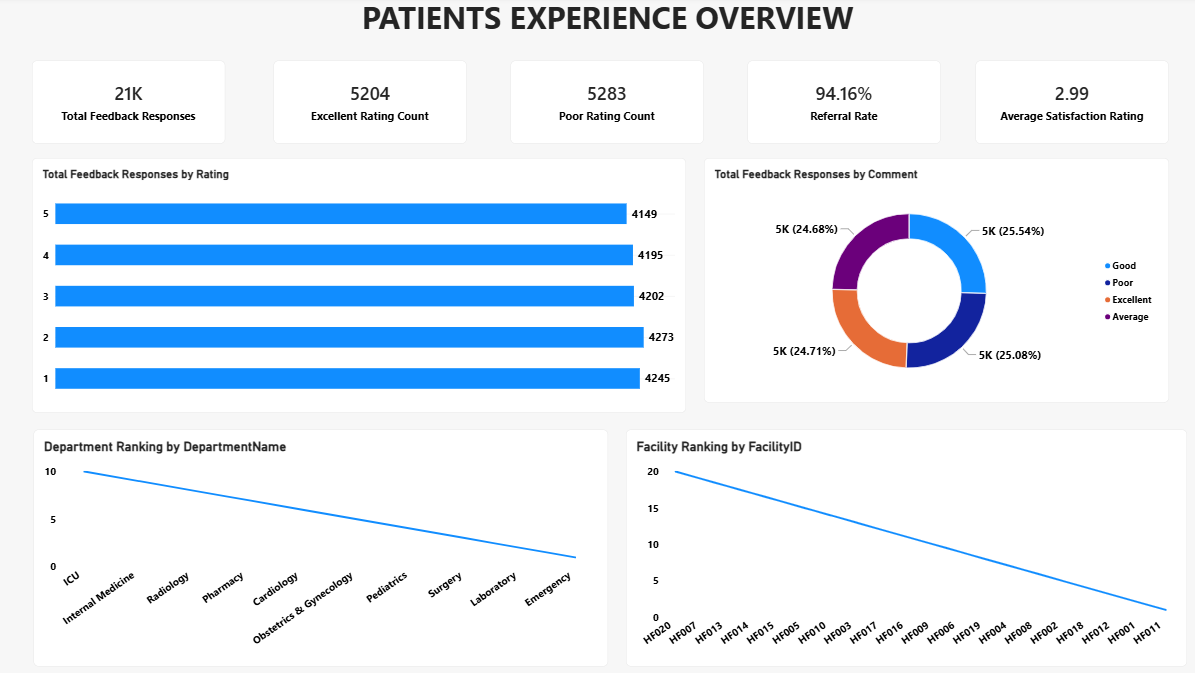

What the dashboard file says about the page in this screenshot:
{"tool":"powerbi","page":{"name":"Patients Experience Dashboard","canvas":[1920,1080],"ordinal":5},"visuals":[{"type":"textbox","box":[280.2,0,1396.3,75.4],"z":0},{"type":"card","fields":{"Values":["Patient_Experience_KPIs.Total Feedback Responses"]},"box":[75.4,101.3,303.3,130.4],"z":1000},{"type":"card","fields":{"Values":["Appointments_KPIs.Referral Rate"]},"box":[1198.5,101.3,303.3,130.4],"z":2000},{"type":"card","fields":{"Values":["Patient_Experience_KPIs.Average Satisfaction Rating"]},"box":[1556.5,101.3,303.3,130.4],"z":3000},{"type":"card","fields":{"Values":["Patient_Experience_KPIs.Excellent Rating Count"]},"box":[454.5,101.3,303.3,130.4],"z":4000},{"type":"card","fields":{"Values":["Patient_Experience_KPIs.Poor Rating Count"]},"box":[826.5,101.3,303.3,130.4],"z":5000},{"type":"clusteredBarChart","fields":{"Category":["HC_Patient_Feedback.Rating"],"Y":["Patient_Experience_KPIs.Total Feedback Responses"]},"box":[75.4,254.3,1026.7,400.3],"z":6000},{"type":"donutChart","fields":{"Category":["HC_Patient_Feedback.Comment"],"Y":["Patient_Experience_KPIs.Total Feedback Responses"]},"box":[1130.3,254.3,730,383.8],"z":7000},{"type":"lineChart","fields":{"Category":["HC_Departments.DepartmentName"],"Y":["Patient_Experience_KPIs.Department Ranking"]},"box":[77.7,680.5,901.9,372],"z":8000},{"type":"lineChart","fields":{"Category":["Fact_Appointments.FacilityID"],"Y":["Patient_Experience_KPIs.Facility Ranking"]},"box":[1007.8,680.5,880.7,372],"z":9000}]}

Visuals, with their boxes in screenshot pixels (x1, y1, x2, y2), scaled from the page's 1920x1080 canvas onto the 1195x673 screenshot:
textbox: bbox=[174, 0, 1043, 47]
card - Patient_Experience_KPIs.Total Feedback Responses: bbox=[47, 63, 236, 144]
card - Appointments_KPIs.Referral Rate: bbox=[746, 63, 935, 144]
card - Patient_Experience_KPIs.Average Satisfaction Rating: bbox=[969, 63, 1158, 144]
card - Patient_Experience_KPIs.Excellent Rating Count: bbox=[283, 63, 472, 144]
card - Patient_Experience_KPIs.Poor Rating Count: bbox=[514, 63, 703, 144]
clusteredBarChart - HC_Patient_Feedback.Rating x Patient_Experience_KPIs.Total Feedback Responses: bbox=[47, 158, 686, 408]
donutChart - HC_Patient_Feedback.Comment x Patient_Experience_KPIs.Total Feedback Responses: bbox=[703, 158, 1158, 398]
lineChart - HC_Departments.DepartmentName x Patient_Experience_KPIs.Department Ranking: bbox=[48, 424, 610, 656]
lineChart - Fact_Appointments.FacilityID x Patient_Experience_KPIs.Facility Ranking: bbox=[627, 424, 1175, 656]
